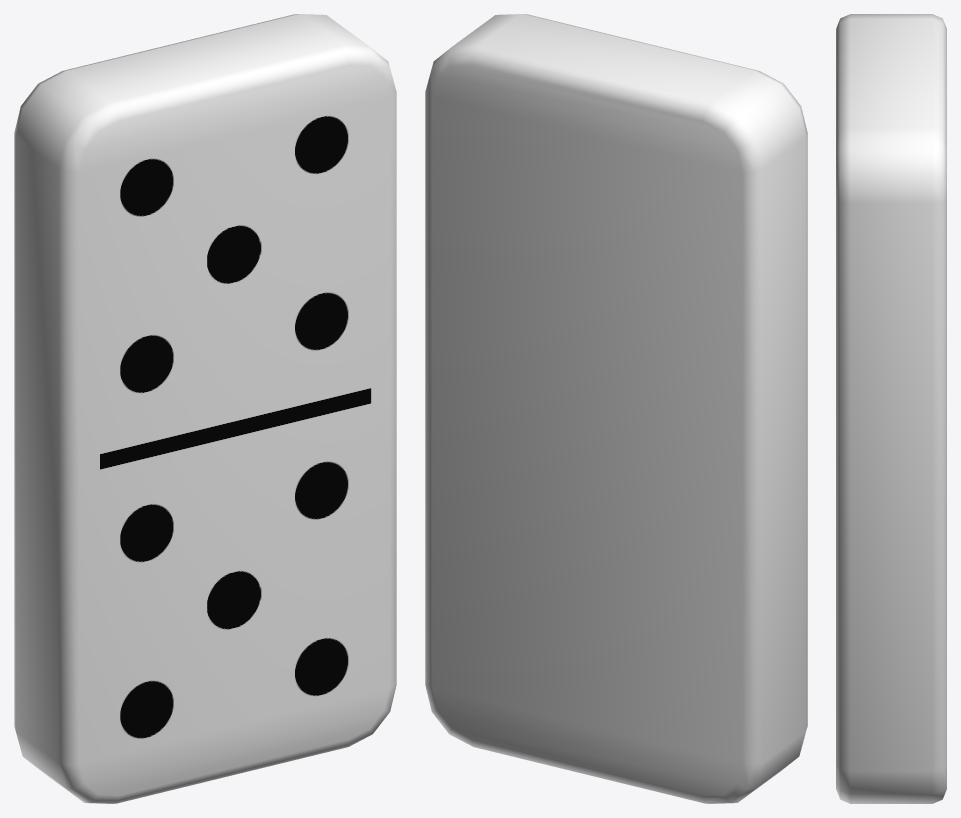
The model's file is Domino.fbx.
3 renders of one model, left to right at view 1: azimuth 30°, elevation 25°; view 2: azimuth 150°, elevation 25°; view 3: azimuth 270°, elevation 25°, orthographic. The views are drawn at different scales.
Parts seen in each view (by area): view 1: Domino; view 2: Domino; view 3: Domino.
Boxes of the visible parts, x1,y1,x2,y2 form: Domino: (14,14,396,803); Domino: (425,14,807,803); Domino: (836,14,946,803).
Bounding box in the file's own units: 120 × 239 × 35.87.
Materials: 1 (1 with a texture image).
